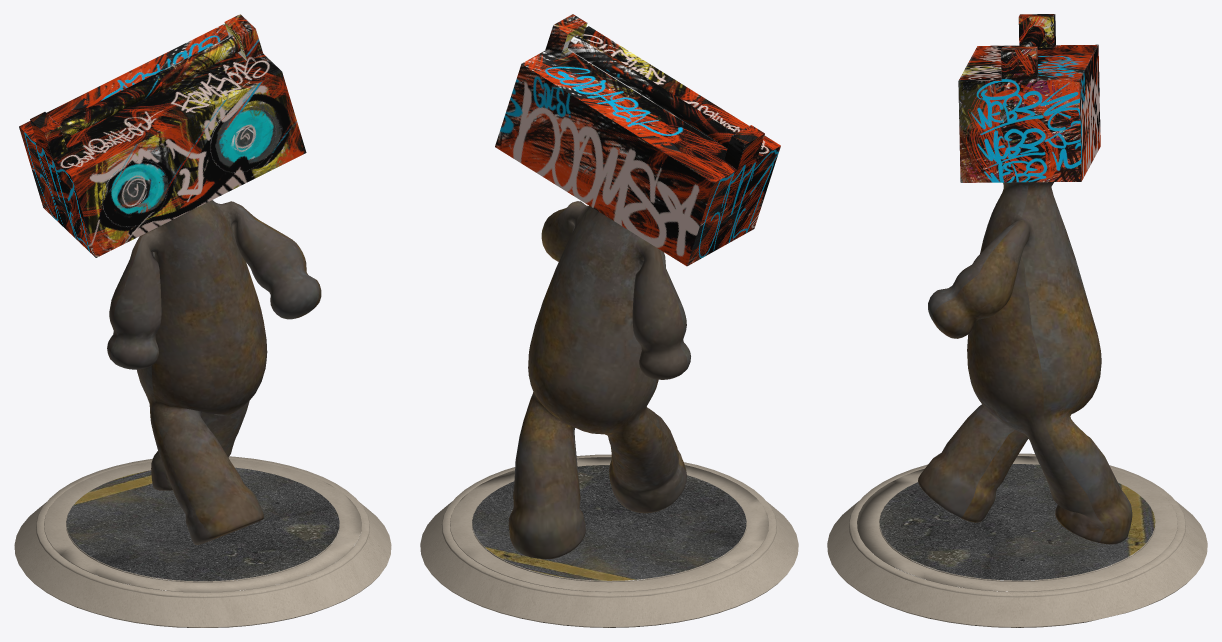
3 renders of one model, left to right at view 1: azimuth 30°, elevation 25°; view 2: azimuth 150°, elevation 25°; view 3: azimuth 270°, elevation 25°, orthographic.
Visible parts, largest first — view 1: BBody; view 2: BBody; view 3: BBody.
Part boxes in pixels (x1,y1,x2,y2): BBody: (14,14,391,627); BBody: (420,14,798,627); BBody: (827,14,1207,627).
Bounding box in the file's own units: 1.45 × 2.19 × 1.45.
Materials: 4 (4 with a texture image).
